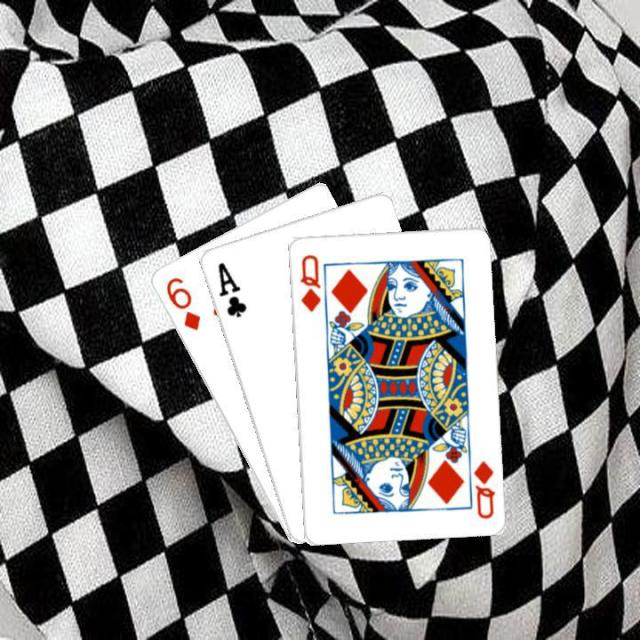6D: (161, 273, 202, 332)
AC: (213, 258, 248, 319)
QD: (296, 250, 323, 314), (469, 456, 496, 520)
